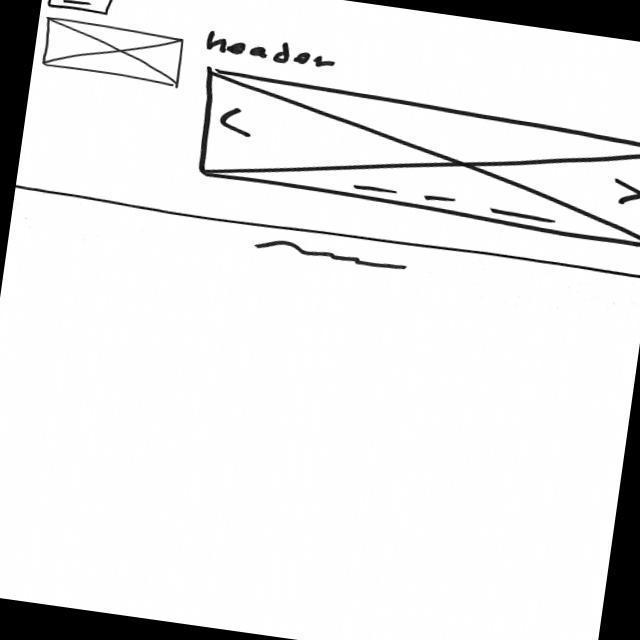icon-button: (46, 1, 117, 17)
image: (189, 66, 640, 250), (41, 16, 190, 89)
label: (205, 28, 344, 73)
text: (251, 237, 414, 276)
